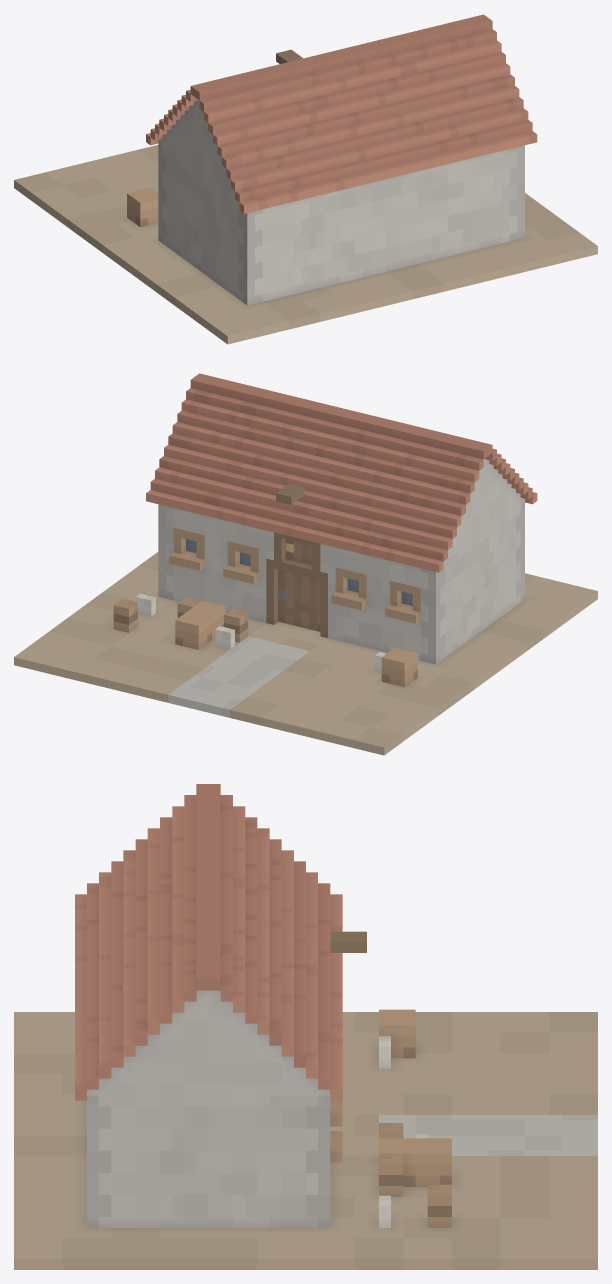
File: warehouse.l2.glb
The picture shows the model from 3 angles, top to bottom: view 1: azimuth 30°, elevation 25°; view 2: azimuth 150°, elevation 25°; view 3: azimuth 270°, elevation 25°; orthographic projection. The views are drawn at different scales.
Visible parts, largest first — view 1: warehouse; view 2: warehouse; view 3: warehouse.
Boxes of the visible parts, x1,y1,x2,y2 form: warehouse: [14, 14, 597, 344]; warehouse: [14, 373, 597, 755]; warehouse: [14, 784, 597, 1269].
Size of the model in its own units: 6 by 3 by 6.
